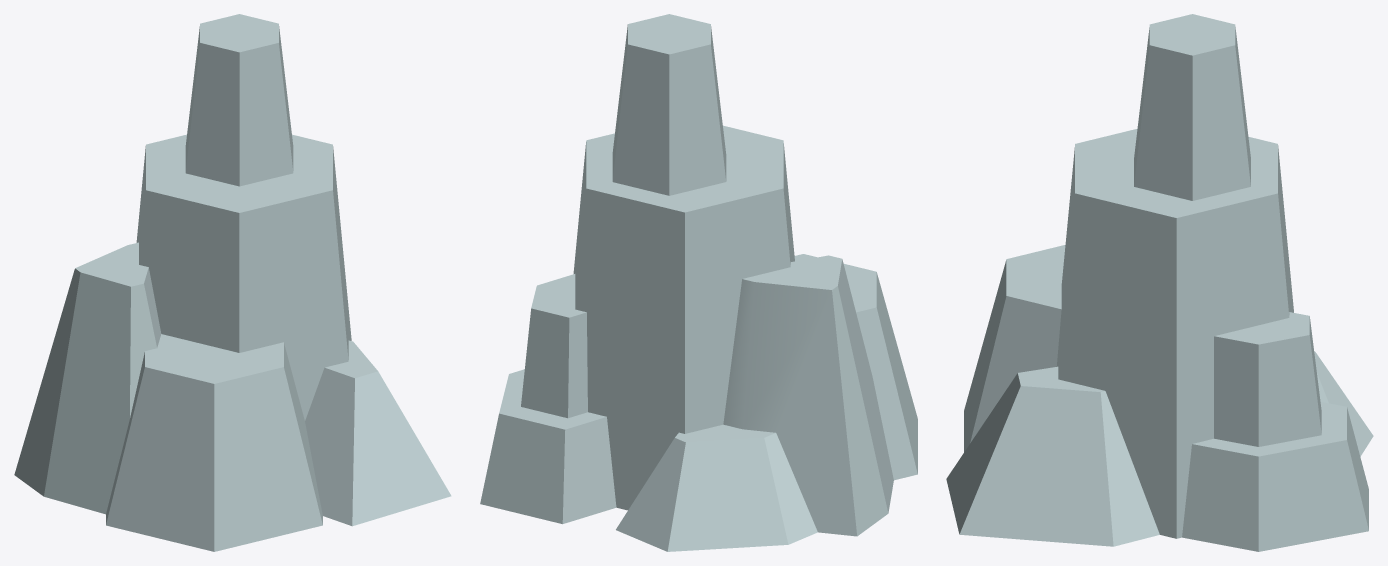
The picture shows the model from 3 angles, left to right: view 1: azimuth 30°, elevation 25°; view 2: azimuth 150°, elevation 25°; view 3: azimuth 270°, elevation 25°; orthographic projection. The views are drawn at different scales.
Parts seen in each view (by area): view 1: stone_tallB; view 2: stone_tallB; view 3: stone_tallB.
Boxes of the visible parts, x1,y1,x2,y2 form: stone_tallB: [14, 14, 451, 551]; stone_tallB: [480, 14, 917, 551]; stone_tallB: [946, 14, 1373, 551].
Bounding box in the file's own units: 0.7648 × 0.8838 × 0.77.
